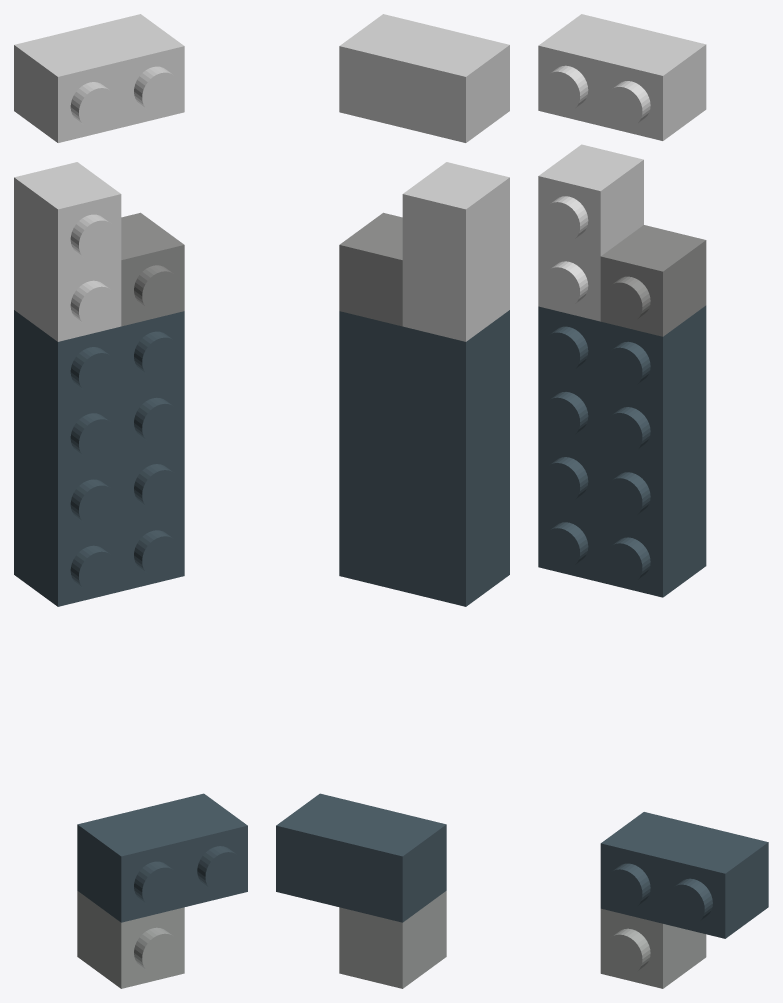
The model's file is current.glb.
3 views of the same model, side by side, from view 1: azimuth 30°, elevation 25°; view 2: azimuth 150°, elevation 25°; view 3: azimuth 330°, elevation 25° (orthographic).
Visible parts, largest first — view 1: world; view 2: world; view 3: world.
Part boxes in pixels (box(x1,y1,x2,y2)): world: box(14, 14, 247, 988); world: box(276, 14, 509, 988); world: box(538, 14, 768, 988).
Bounding box in the file's own units: 24 × 112 × 11.4.
